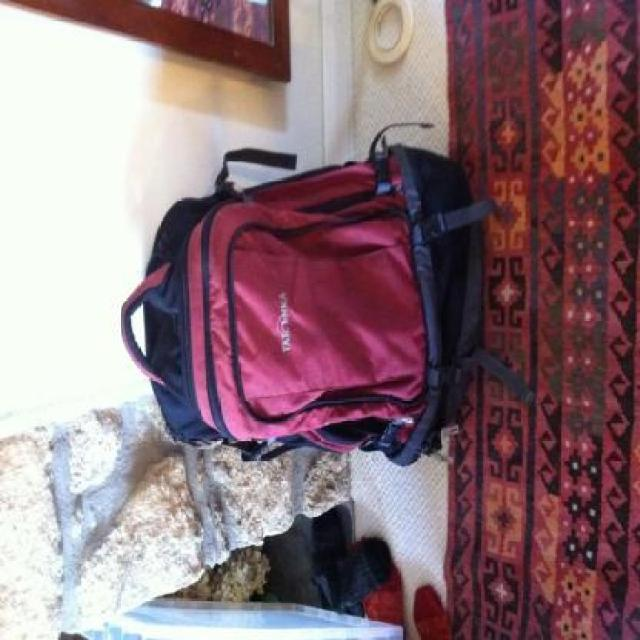backpack: (118, 138, 490, 472)
